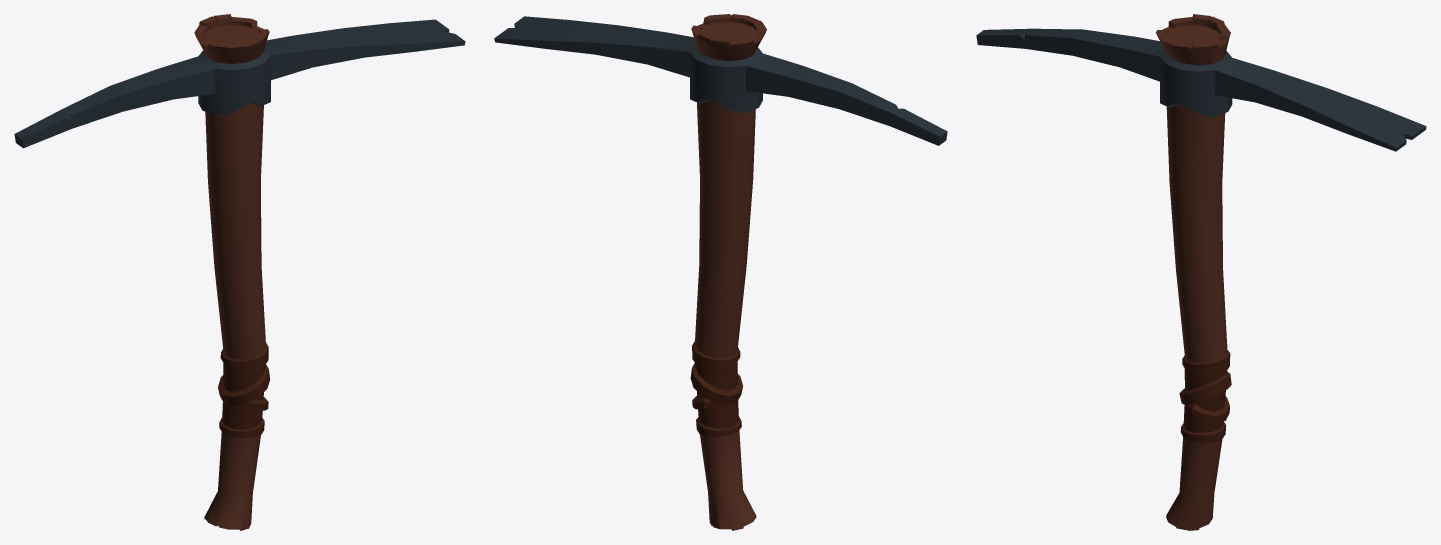
File: pickaxe.fbx
3 renders of one model, left to right at view 1: azimuth 30°, elevation 25°; view 2: azimuth 150°, elevation 25°; view 3: azimuth 330°, elevation 25°, orthographic.
Visible parts, largest first — view 1: Pickaxe; view 2: Pickaxe; view 3: Pickaxe.
Part boxes in pixels (<box>): Pickaxe: <box>14,14,465,530</box>; Pickaxe: <box>494,14,947,530</box>; Pickaxe: <box>976,14,1426,530</box>.
Size of the model in its own units: 56.65 by 61.8 by 8.38.
